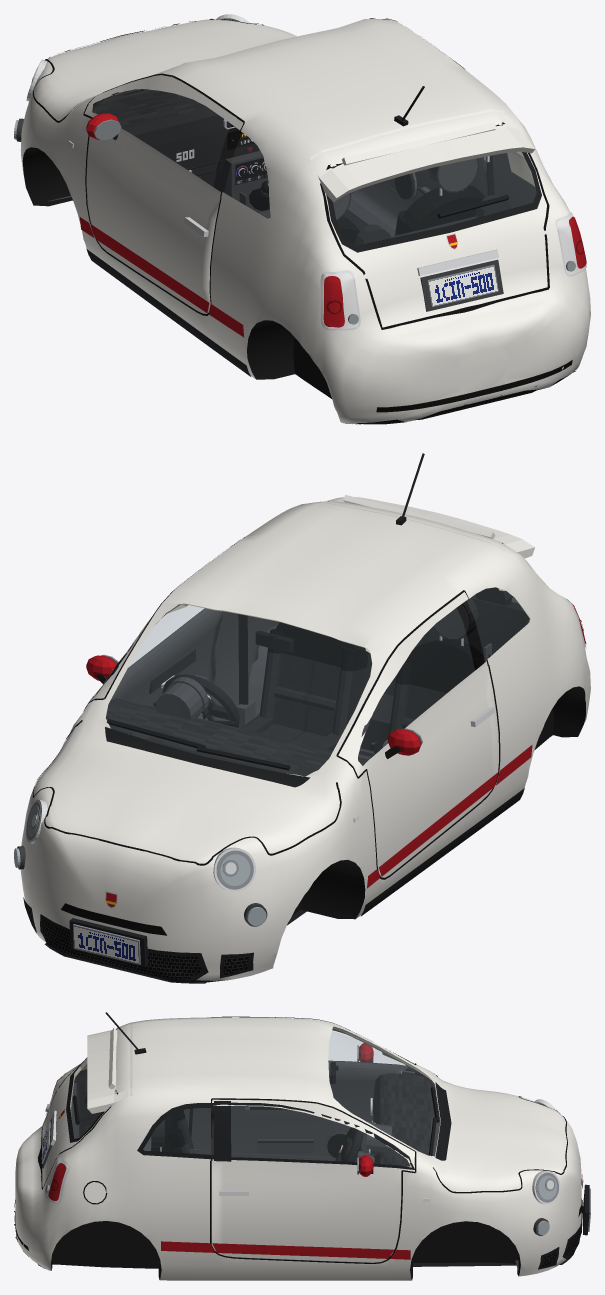
The model's file is abarth500.glb.
3 views of the same model, one above another, from view 1: azimuth 30°, elevation 25°; view 2: azimuth 150°, elevation 25°; view 3: azimuth 270°, elevation 25° (orthographic). The views are drawn at different scales.
Parts seen in each view (by area): view 1: Body, Door_L, Interior, Glass, Door_L_Glass, Door_R, Lights_Tail; view 2: Body, Glass, Interior, Door_L, Door_L_Glass, Door_R, Lights_Head, SteeringWheel; view 3: Body, Door_R, Glass, Door_L, Interior, Door_R_Glass, SteeringWheel, Lights_Head, Lights_Tail.
Part boxes in pixels (x1,y1,x2,y2): Body: (16, 14, 590, 424); Door_L: (84, 75, 243, 313); Interior: (95, 90, 532, 245); Glass: (225, 133, 535, 244); Door_L_Glass: (93, 90, 230, 185); Door_R: (383, 157, 488, 202); Lights_Tail: (323, 216, 586, 327); Body: (17, 453, 590, 983); Glass: (106, 588, 528, 775); Interior: (106, 587, 529, 776); Door_L: (338, 592, 498, 877); Door_L_Glass: (358, 608, 474, 764); Door_R: (85, 570, 223, 720); Lights_Head: (14, 805, 266, 925); SteeringWheel: (162, 674, 239, 727); Body: (14, 1012, 590, 1280); Door_R: (211, 1099, 414, 1262); Glass: (71, 1028, 439, 1155); Door_L: (211, 1028, 414, 1158); Interior: (71, 1062, 430, 1237); Door_R_Glass: (231, 1106, 409, 1165); SteeringWheel: (335, 1127, 363, 1161); Lights_Head: (537, 1175, 556, 1235); Lights_Tail: (48, 1076, 66, 1200).
Size of the model in its own units: 1.88 by 1.59 by 3.69.
44 materials, 15 textured.
